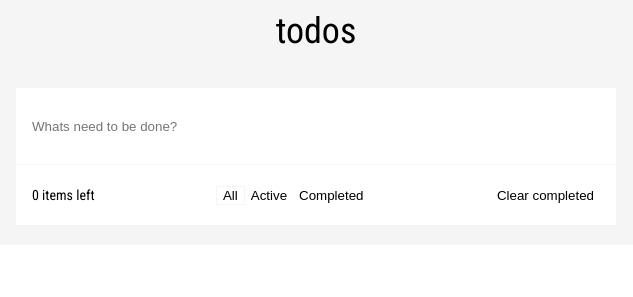
 › adds todo
In the field with placeholder "Whats need to be done?": (316, 126) [16,88,616,164], type "Test todo"
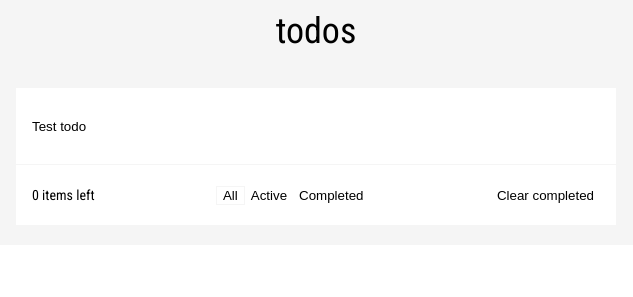
Submit the form from the field with placeholder "Whats need to be done?", box [16,88,616,164]
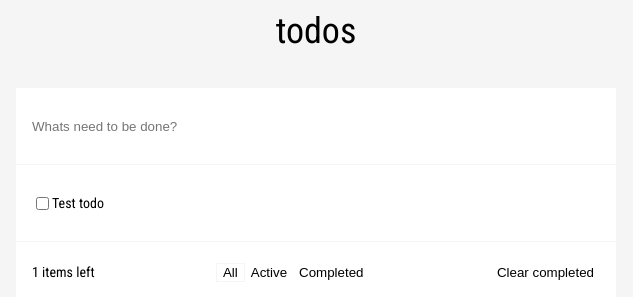
expect the text "Test todo" is shown: met, box [52,195,104,211]
